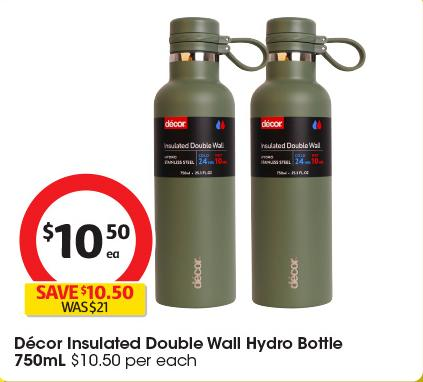description_block: (6, 327, 370, 375)
price_main: (13, 181, 153, 281)
product_image_block: (133, 3, 354, 310)
promo_text_block: (21, 280, 148, 322)
unit_price_block: (67, 347, 202, 373)
